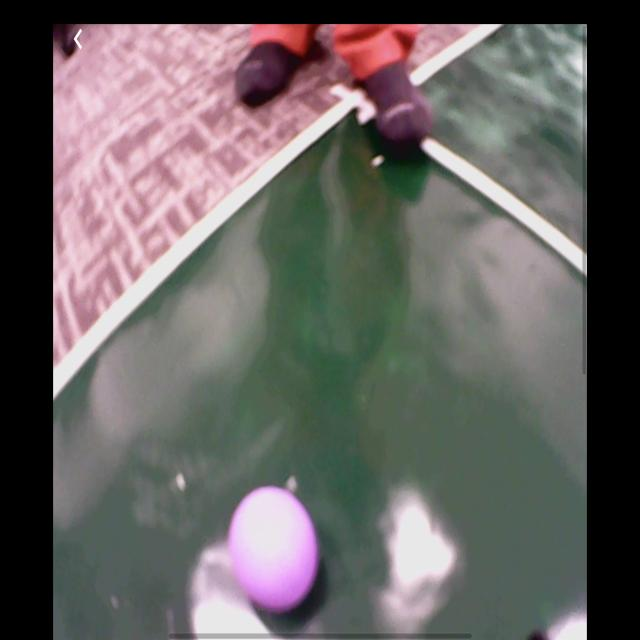ball: (230, 487, 319, 613)
